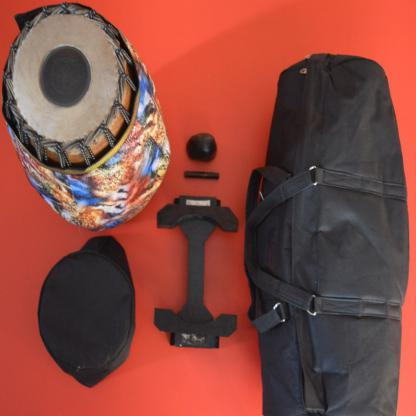Mridangam: (1, 1, 173, 237)
